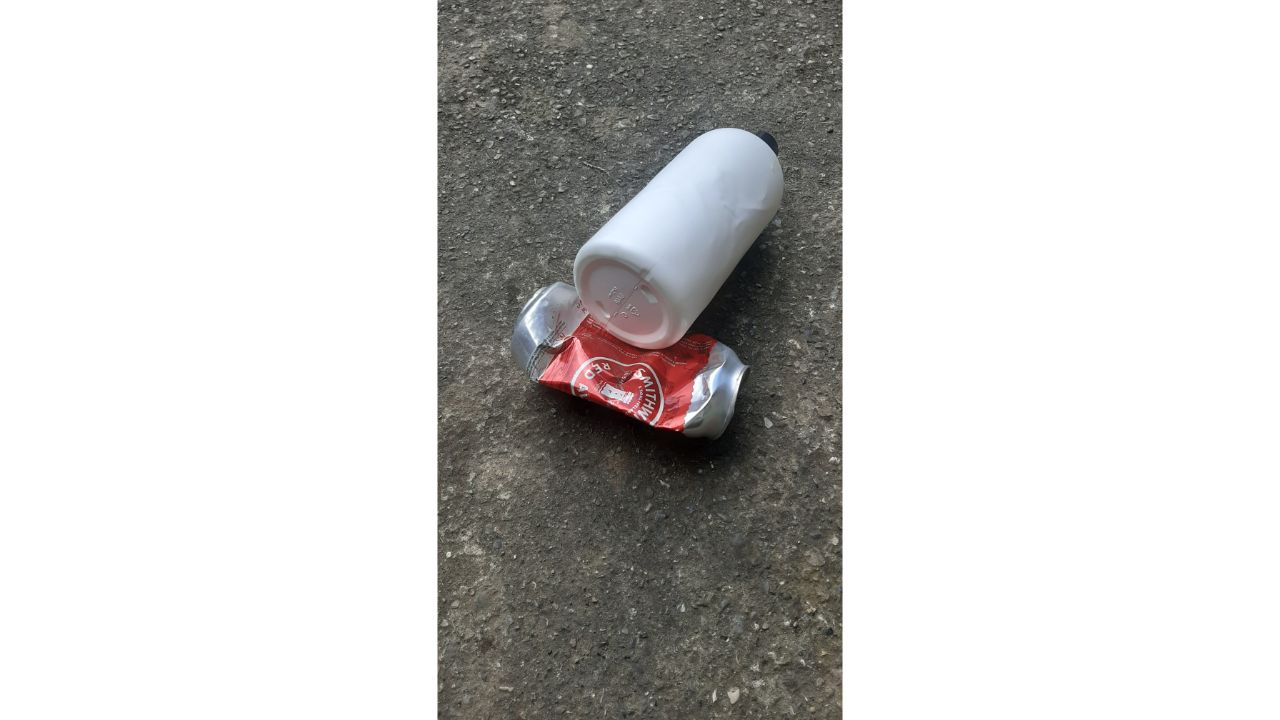Can: (503, 273, 756, 450)
